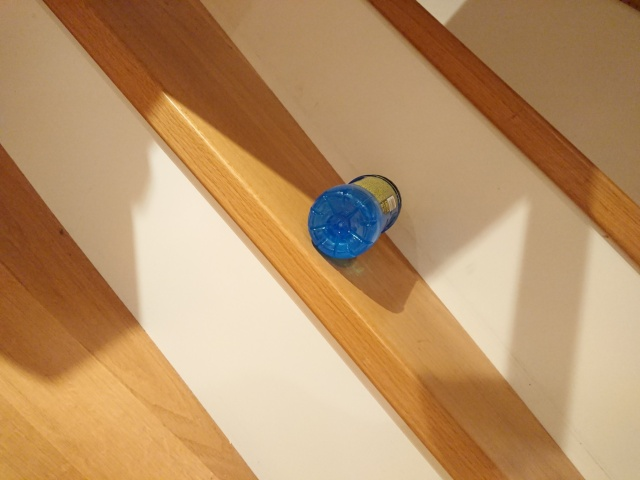Vindi Iso Sport Forest Strawberries 500mL: (305, 171, 404, 261)
